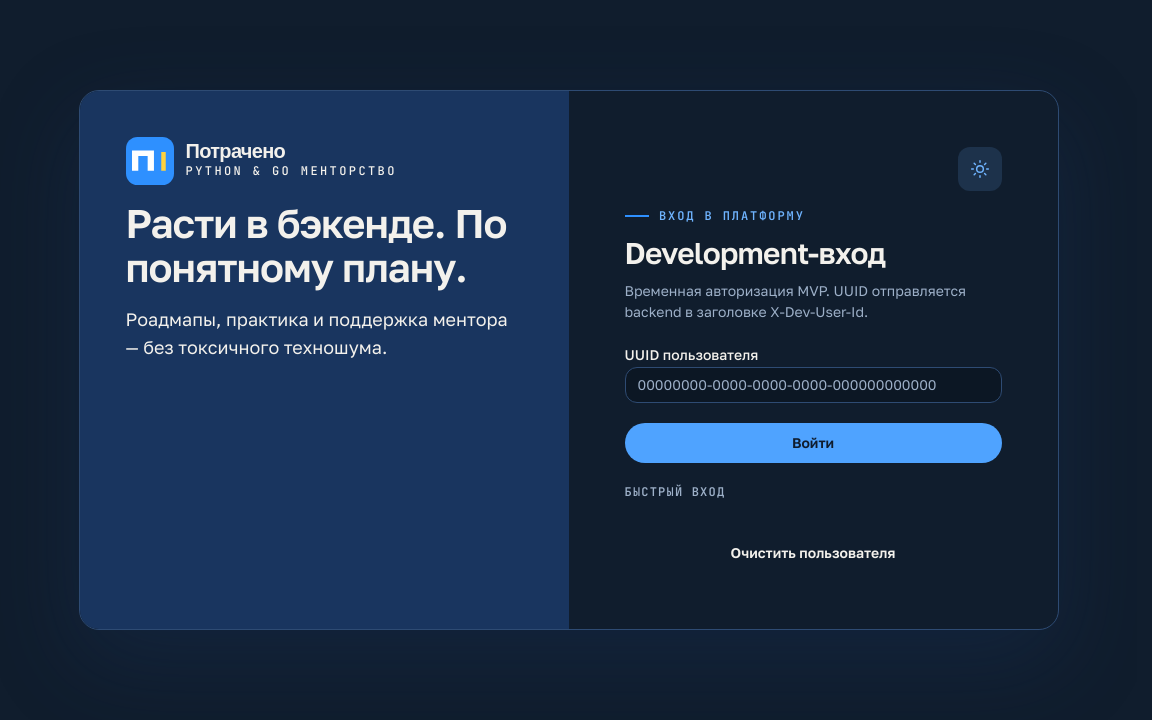
Scenario: объясняет ошибку UUID после отправки и оставляет возможность исправить ввод
Click the button "Войти" at (813, 443), box [624,423,1002,463]
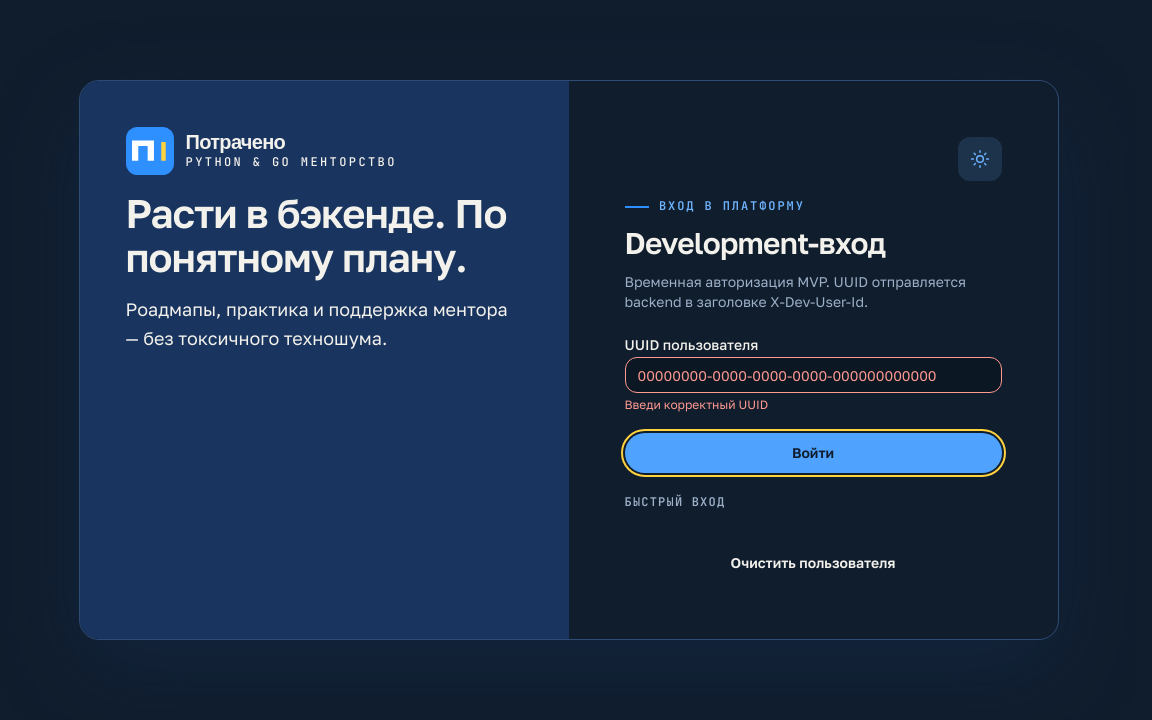
Now the text "Введи корректный UUID" is shown, box [624,397,768,412]
